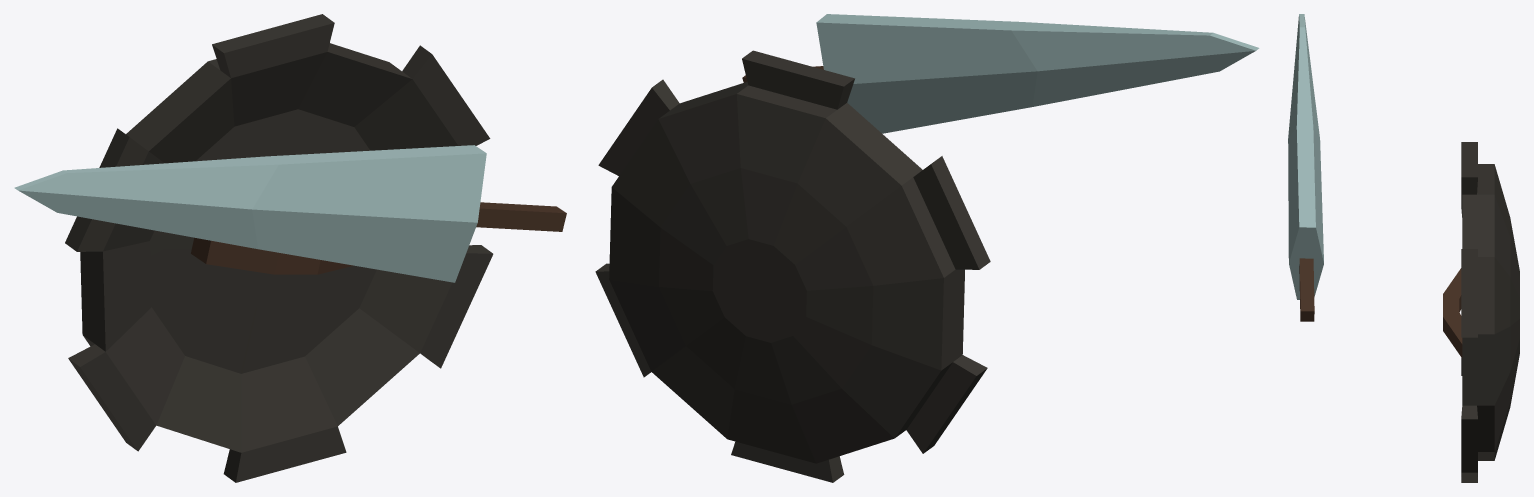
Rendered from Sword_For_Skelet.fbx.
The picture shows the model from 3 angles, left to right: view 1: azimuth 30°, elevation 25°; view 2: azimuth 150°, elevation 25°; view 3: azimuth 270°, elevation 25°; orthographic projection. The views are drawn at different scales.
Parts seen in each view (by area): view 1: Cube.002, Cube.001; view 2: Cube.002, Cube.001; view 3: Cube.002, Cube.001.
Part boxes in pixels (<box>): Cube.002: <box>65,14,493,482</box>; Cube.001: <box>14,145,566,282</box>; Cube.002: <box>595,50,990,482</box>; Cube.001: <box>742,14,1259,133</box>; Cube.002: <box>1443,142,1519,482</box>; Cube.001: <box>1288,14,1323,321</box>.
Bounding box in the file's own units: 226 × 169 × 110.
